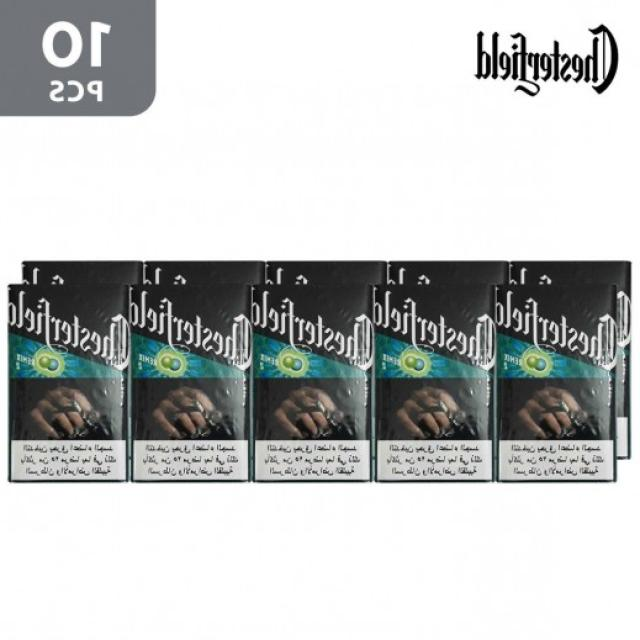chesterfield: (493, 264, 630, 483), (8, 263, 134, 483), (250, 262, 376, 480), (130, 263, 250, 480), (377, 264, 494, 484)
